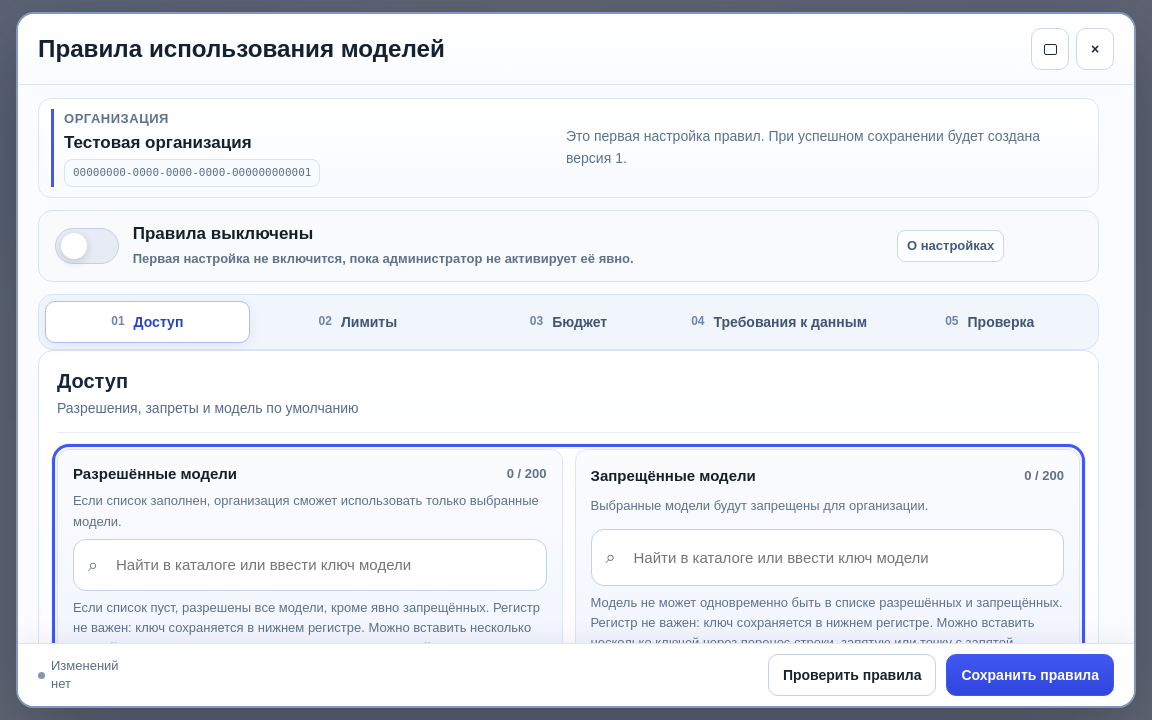
Scenario: ModelPolicyModal: раздельные вкладки и единый черновик › не отправляет частичный черновик, если в другой вкладке остался ввод модели
The width and height of the screenshot is (1152, 720).
Step 1. Type "незавершённый ввод" into the dropdown labelled "Разрешённые модели" → (324, 565), box left=110, top=548, right=538, bottom=582
(page scrolled)
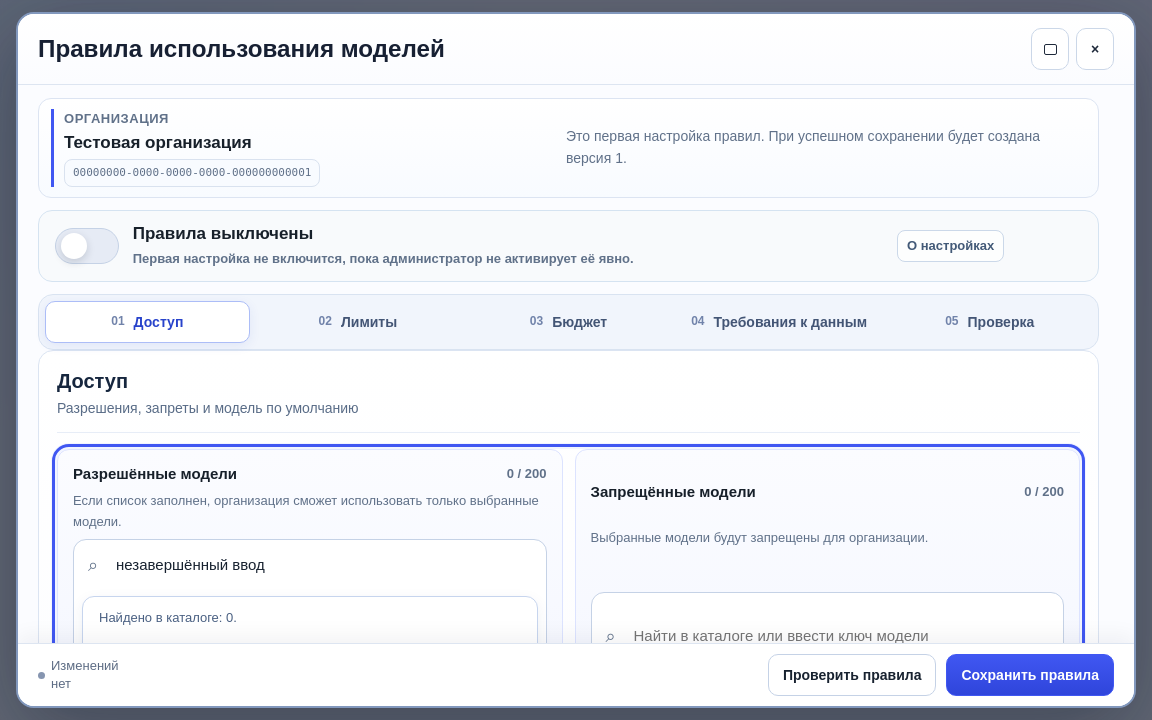
Step 2. Click the tab "03 Бюджет" → (568, 322), box left=466, top=301, right=671, bottom=343
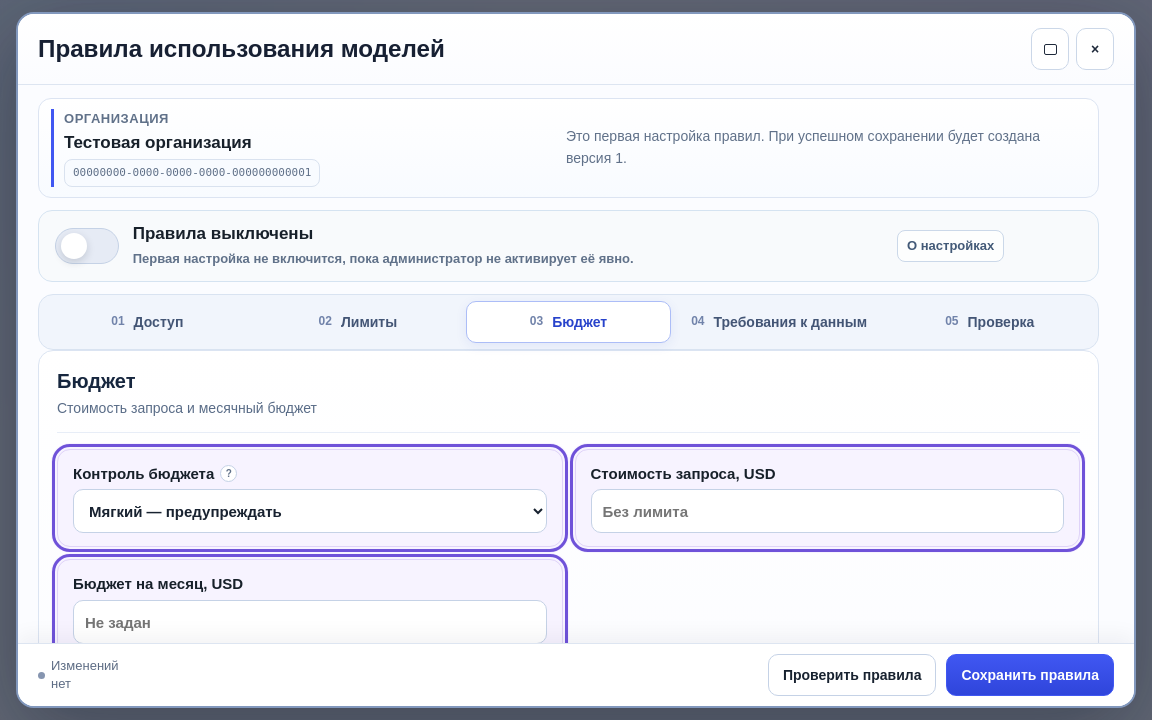
Step 3. Click the button "Сохранить правила" → (1030, 675), box left=946, top=654, right=1114, bottom=696
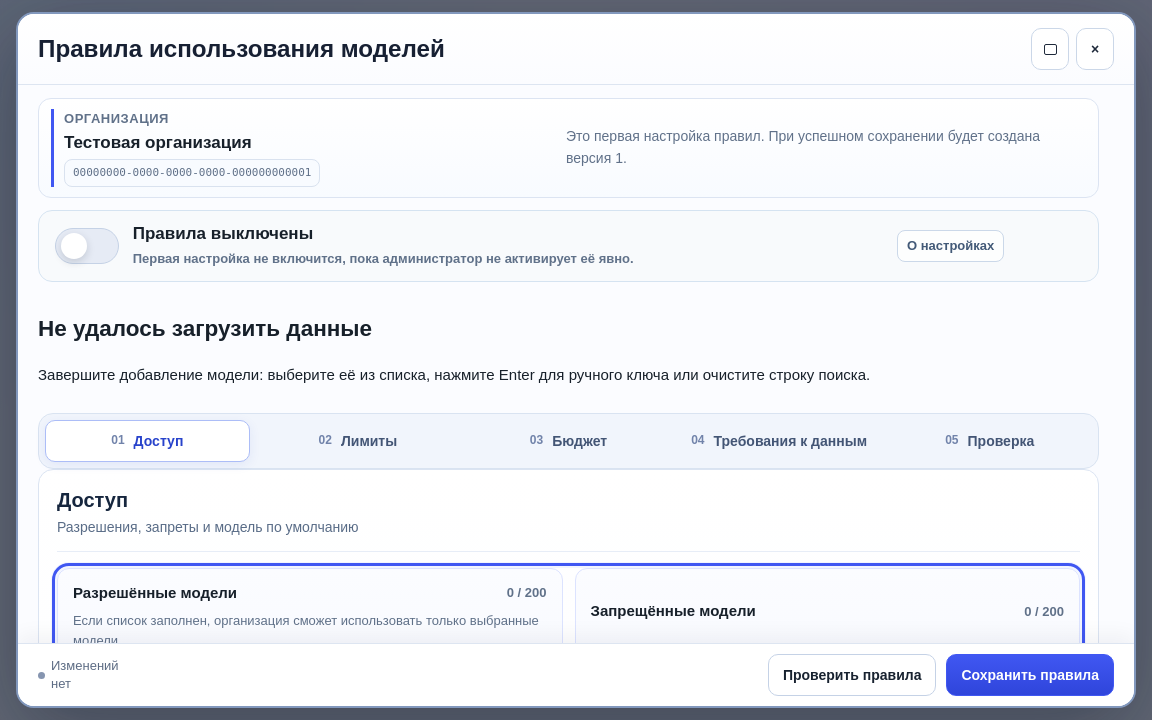
Expected: the text "Завершите добавление модели" is shown, left=38, top=366, right=870, bottom=383
